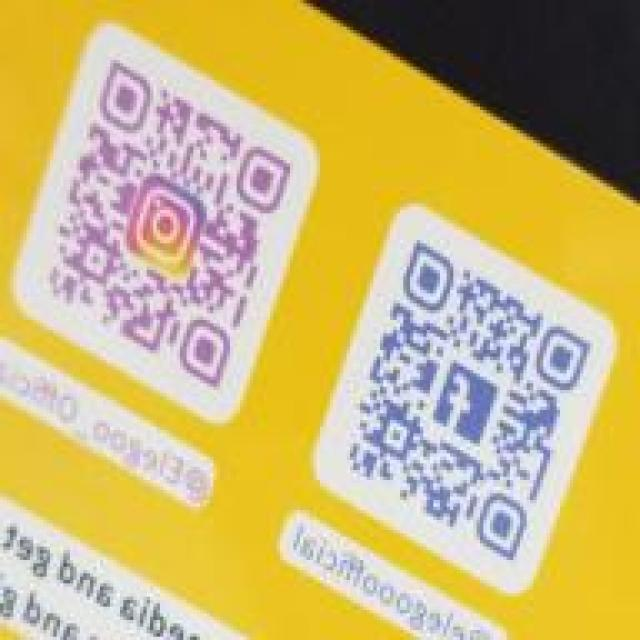qr_code: (344, 239, 593, 562), (45, 62, 292, 387)
